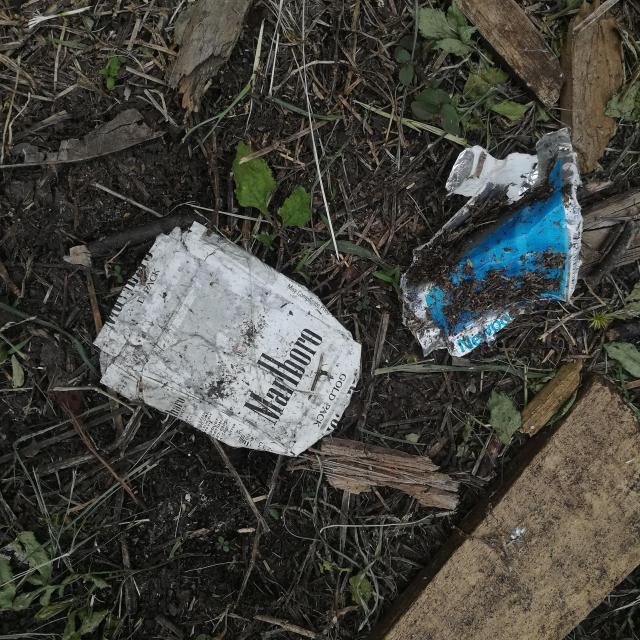litter: (93, 220, 363, 458), (400, 130, 585, 358)
